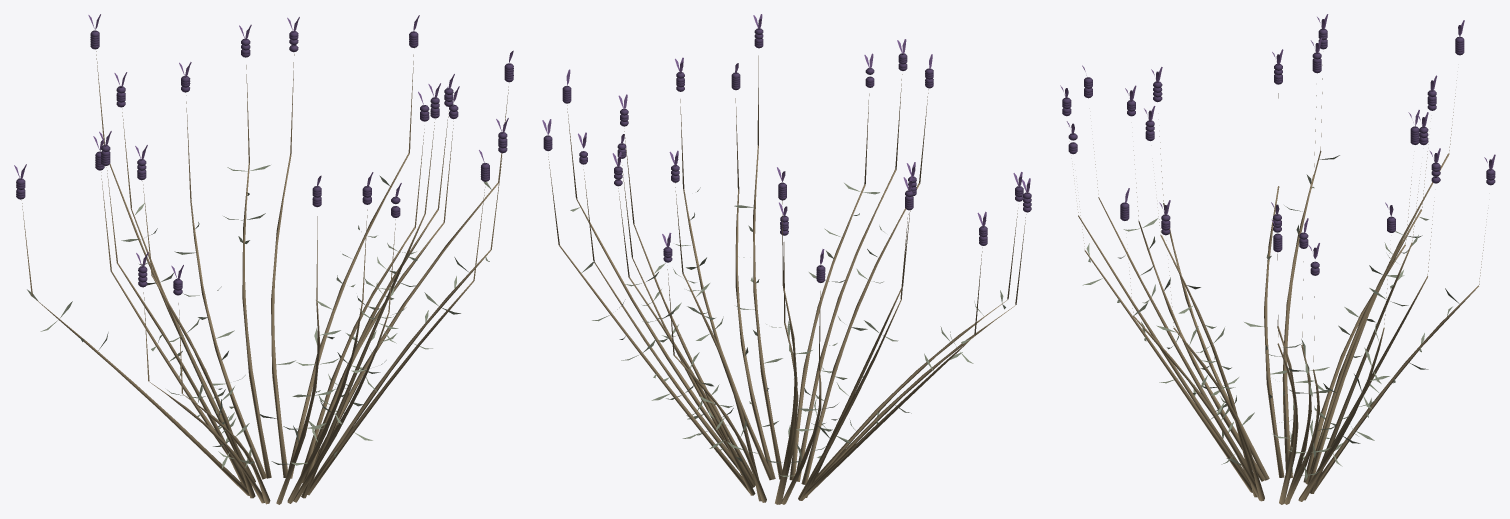
File: Lavande_1_Niveau1.fbx
3 views of the same model, side by side, from view 1: azimuth 30°, elevation 25°; view 2: azimuth 150°, elevation 25°; view 3: azimuth 270°, elevation 25° (orthographic). The views are drawn at different scales.
Parts seen in each view (by area): view 1: Lavande_1_Niveau1; view 2: Lavande_1_Niveau1; view 3: Lavande_1_Niveau1.
Boxes of the visible parts, x1,y1,x2,y2 form: Lavande_1_Niveau1: [14, 14, 513, 504]; Lavande_1_Niveau1: [542, 14, 1031, 504]; Lavande_1_Niveau1: [1060, 14, 1495, 504].
Bounding box in the file's own units: 81.87 × 71.59 × 66.21.
